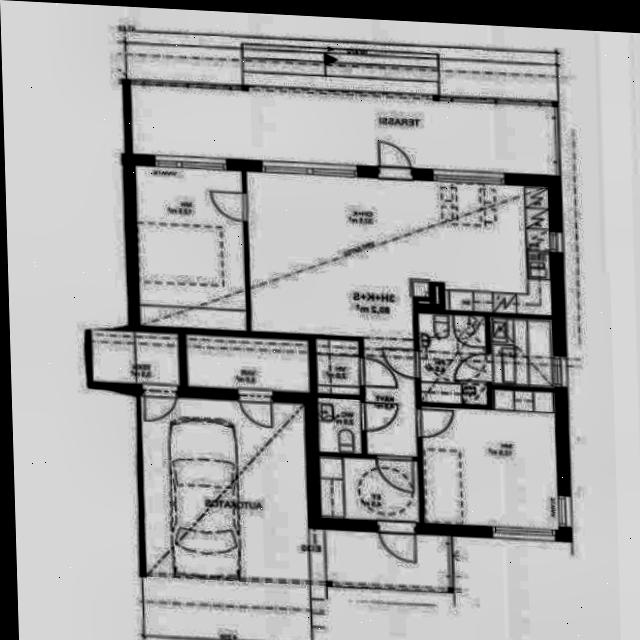room: (422, 389, 558, 532), (136, 163, 246, 334), (185, 335, 312, 392), (317, 457, 422, 522), (419, 312, 486, 406), (90, 330, 182, 385), (491, 316, 554, 390), (316, 338, 360, 396), (318, 396, 361, 455)
